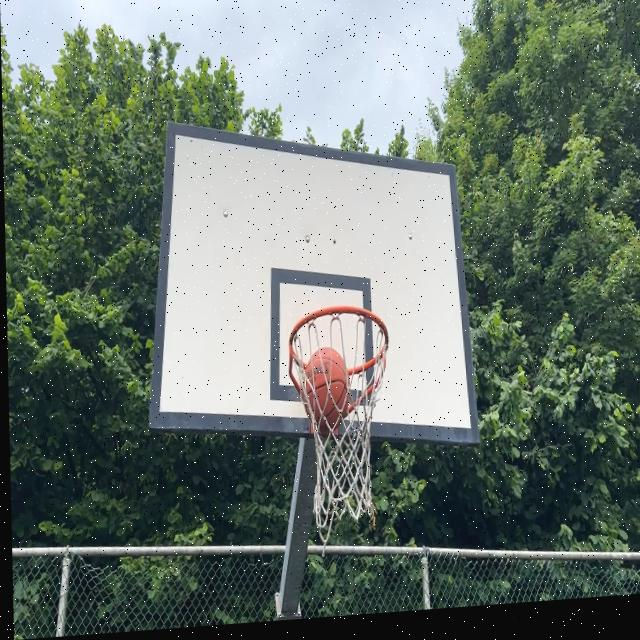Goal: (302, 345, 350, 431)
